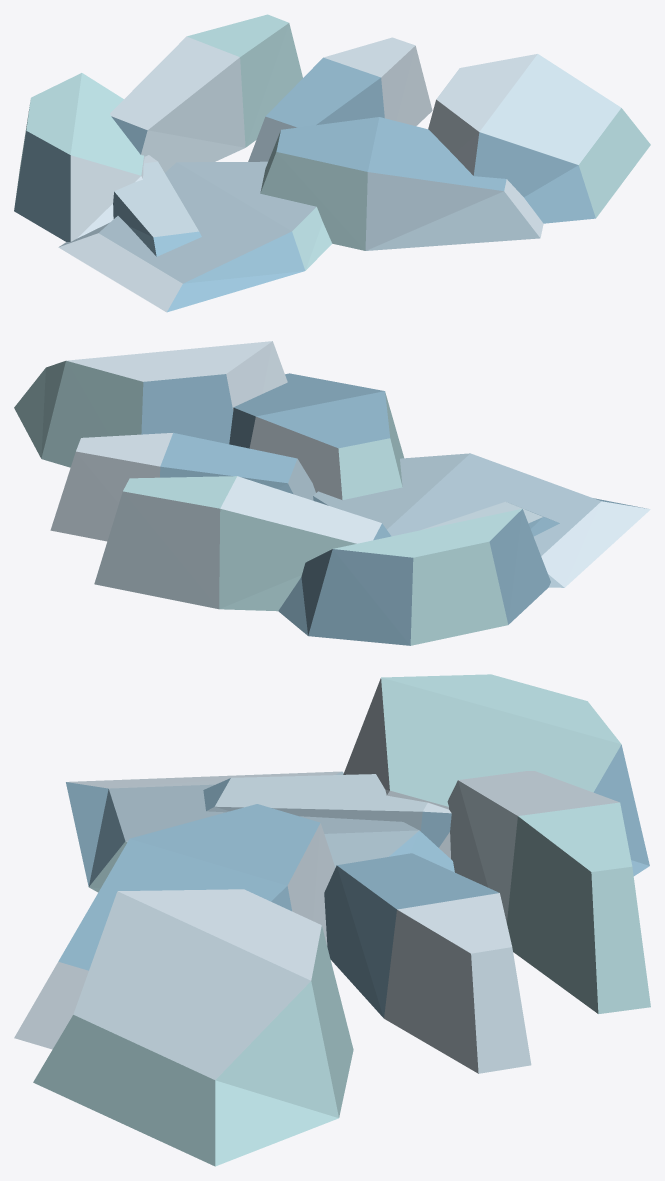
The model's file is Ice Rocks 3.fbx.
3 views of the same model, one above another, from view 1: azimuth 30°, elevation 25°; view 2: azimuth 150°, elevation 25°; view 3: azimuth 270°, elevation 25° (orthographic). The views are drawn at different scales.
Visible parts, largest first — view 1: Ice block 5; view 2: Ice block 5; view 3: Ice block 5.
Boxes of the visible parts, x1,y1,x2,y2 form: Ice block 5: (14,14,650,312); Ice block 5: (14,341,650,645); Ice block 5: (14,674,650,1166).
Bounding box in the file's own units: 1072 × 164 × 730.
